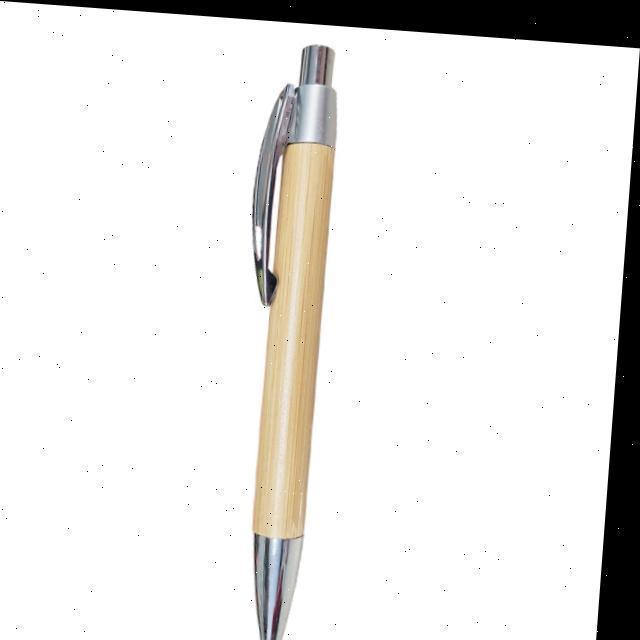pen: (227, 35, 346, 640)
